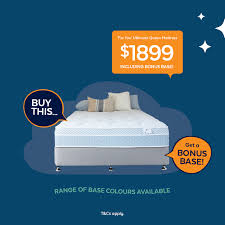bed-matress: (54, 108, 169, 146)
